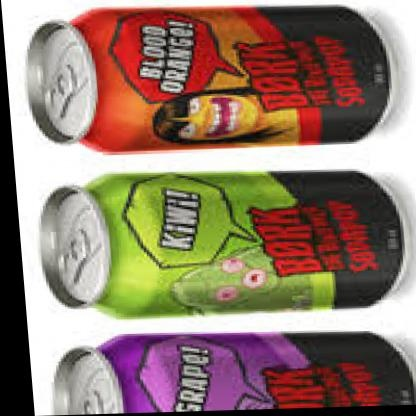trash: (28, 7, 388, 151), (41, 172, 401, 315), (55, 333, 414, 413)
